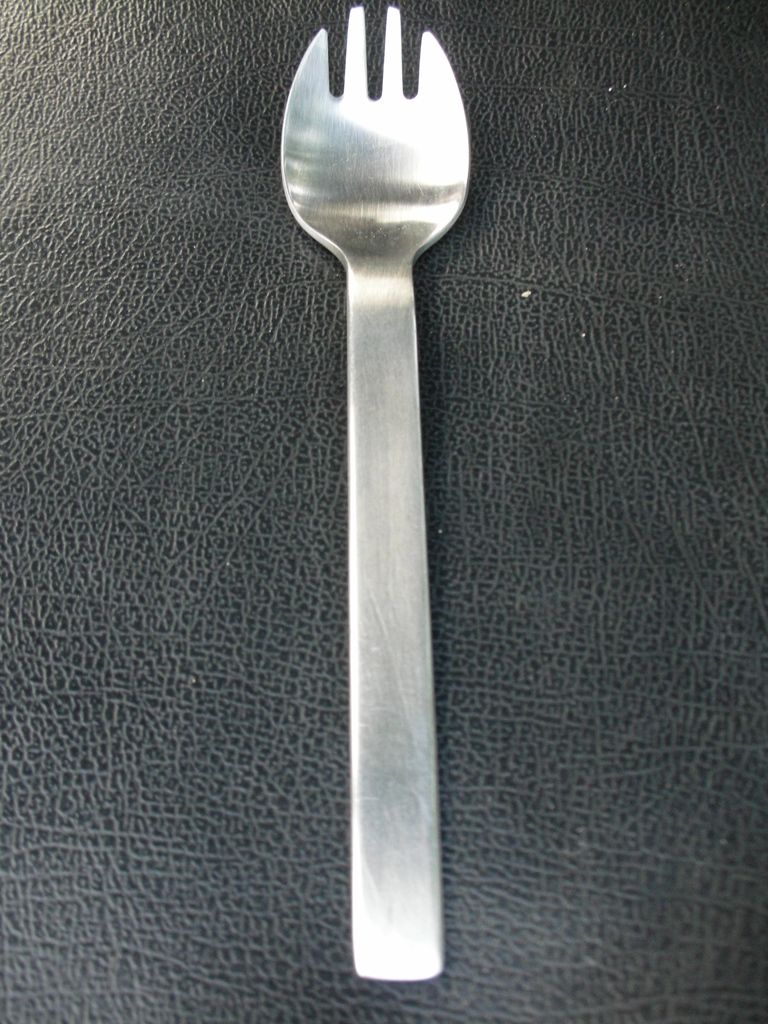fork: (280, 6, 471, 980)
